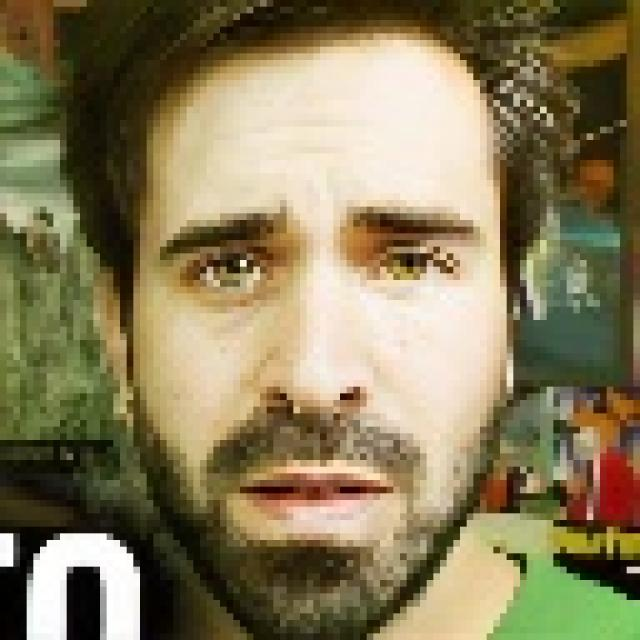sad: (112, 45, 532, 640)
